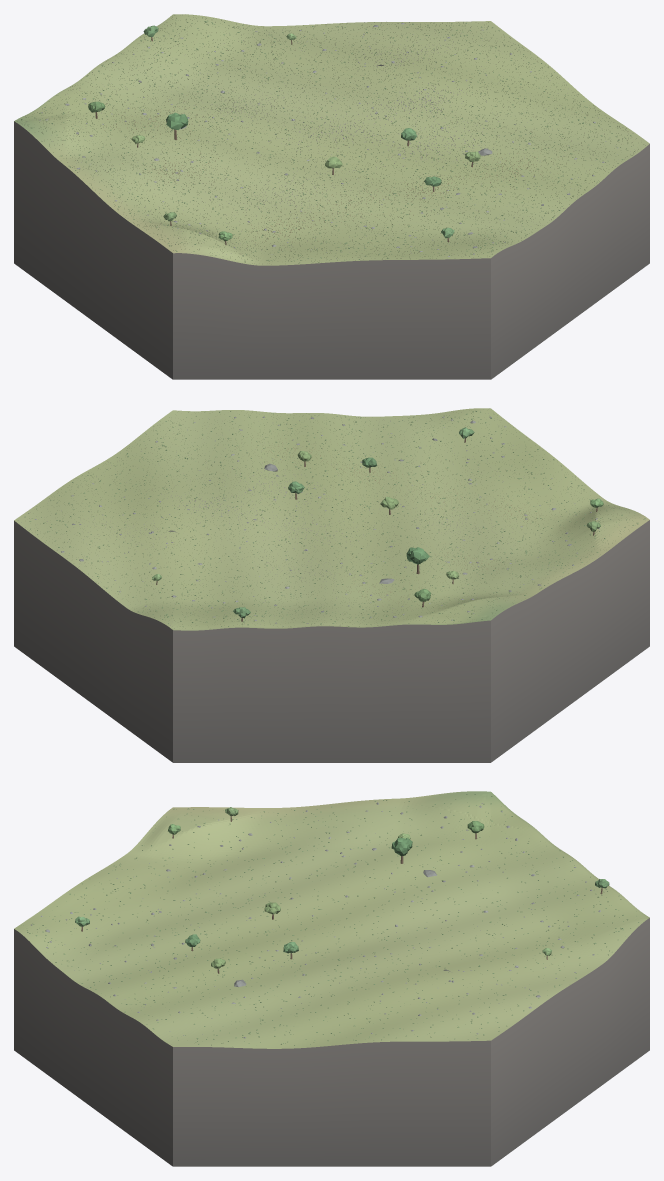
The model's file is 34_pradaria_dos_ventos_leste_5km.glb.
3 renders of one model, top to bottom at view 1: azimuth 30°, elevation 25°; view 2: azimuth 150°, elevation 25°; view 3: azimuth 270°, elevation 25°, orthographic.
Visible parts, largest first — view 1: terrain, hex_side_cut, wildflowers, shrubs, broadleaf_canopy, boulders; view 2: terrain, hex_side_cut, wildflowers, shrubs, broadleaf_canopy, boulders; view 3: terrain, hex_side_cut, shrubs, broadleaf_canopy, boulders.
Part boxes in pixels (<box>): terrain: <box>14,14,649,265</box>; hex_side_cut: <box>14,121,649,379</box>; wildflowers: <box>17,14,643,264</box>; shrubs: <box>21,16,645,262</box>; broadleaf_canopy: <box>88,25,480,241</box>; boulders: <box>39,23,618,256</box>; terrain: <box>14,408,649,630</box>; hex_side_cut: <box>14,520,649,762</box>; wildflowers: <box>21,408,632,628</box>; shrubs: <box>25,411,645,628</box>; broadleaf_canopy: <box>152,427,603,618</box>; boulders: <box>35,416,599,623</box>; terrain: <box>14,791,649,1048</box>; hex_side_cut: <box>14,918,649,1166</box>; shrubs: <box>23,794,638,1046</box>; broadleaf_canopy: <box>75,807,609,968</box>; boulders: <box>31,802,600,1038</box>.
Bounding box in the file's own units: 4330 × 1321 × 5000.
